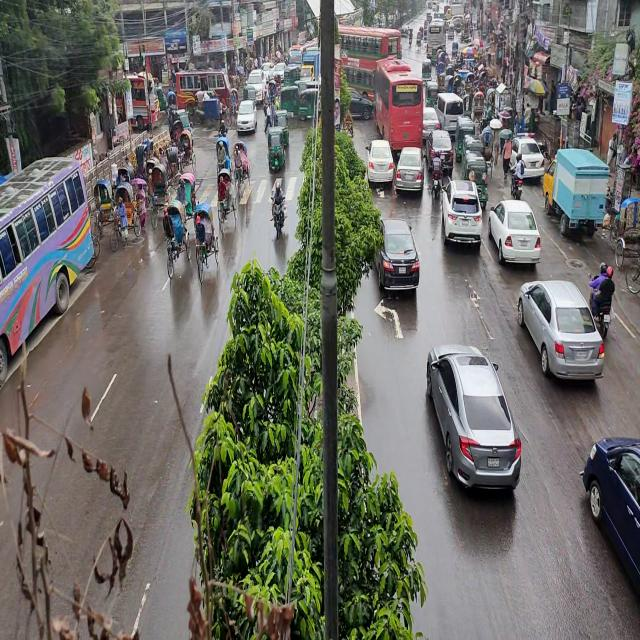black: (371, 220, 420, 294), (426, 129, 454, 171)
blue: (583, 436, 640, 602)
silver: (427, 348, 520, 498), (518, 283, 604, 383), (396, 147, 425, 199)
white: (486, 198, 542, 266), (442, 180, 481, 248), (505, 132, 544, 181), (364, 134, 396, 188)
